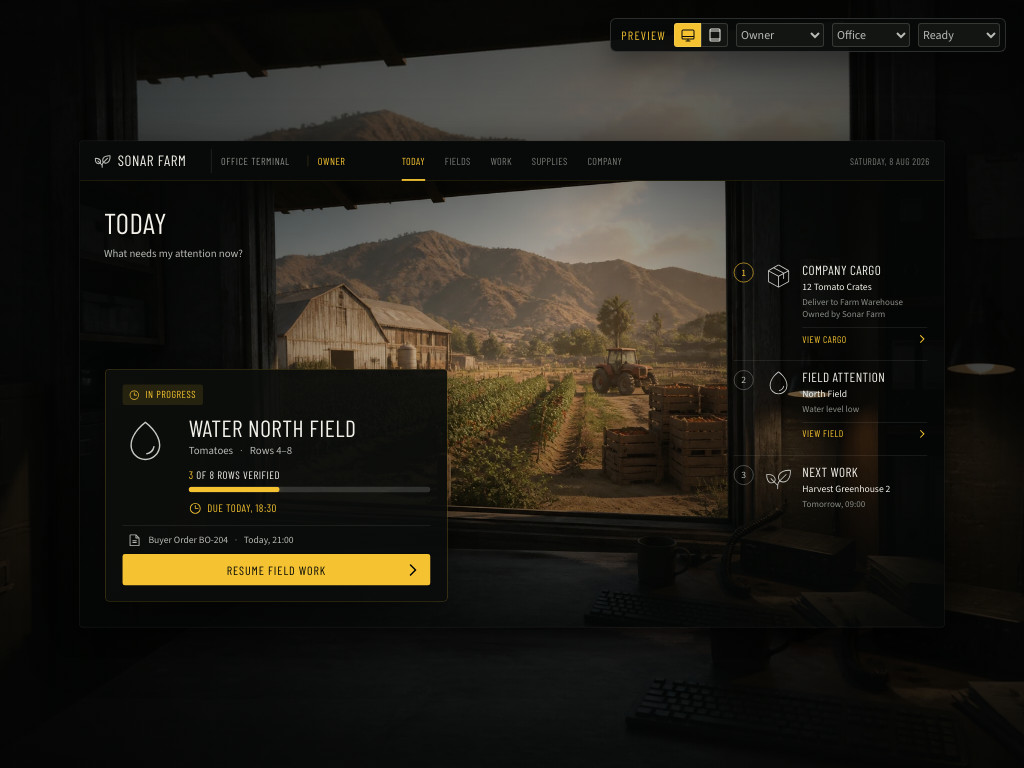
Test: Farm Business Hub › renders the blocked operational state
Select "blocked" in the dropdown named "Preview state": point(959, 35) [918,23,1000,47]
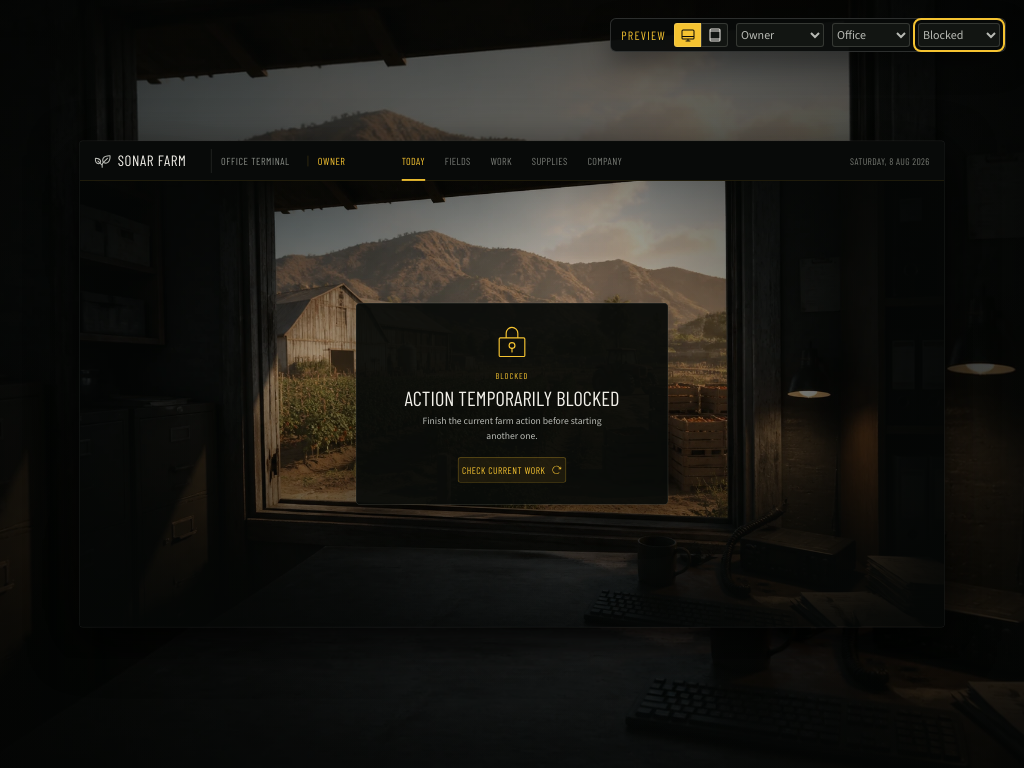
Now the heading "Action temporarily blocked" is shown, box [405,388,619,408]
